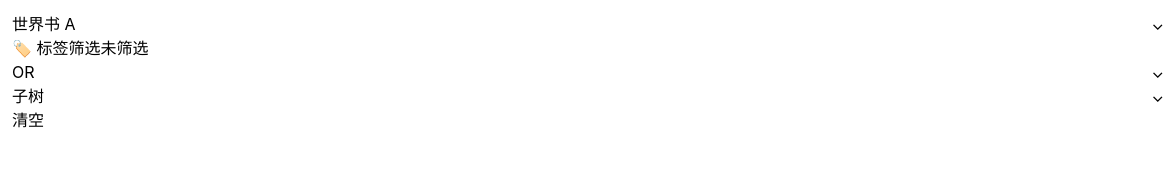
Test case: WorldbookPicker › uses the real searchable BaseSelect menu and preserves worldbook string values
Click the dropdown labelled "世界书 A ⌄" at [44, 24], box [12, 12, 1164, 36]
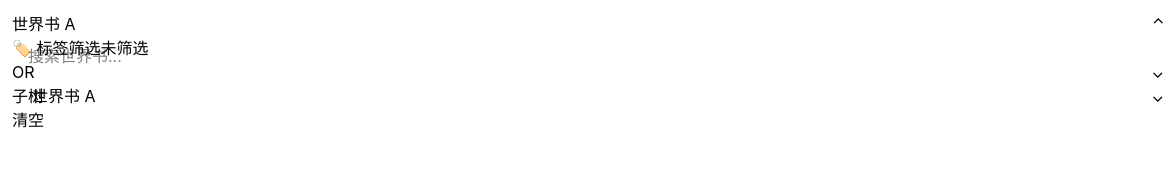
Type "目标" into the dropdown with placeholder "搜索世界书..." at [588, 56], box [28, 44, 1148, 68]
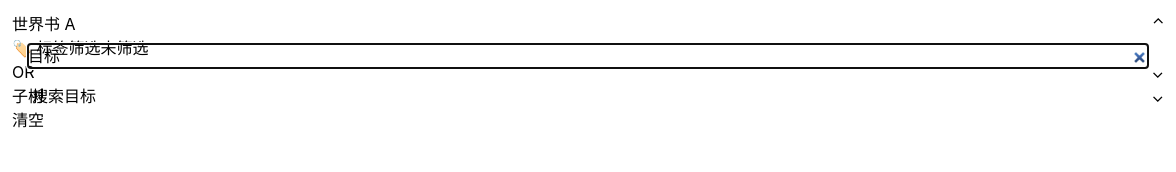
Click the option "搜索目标" at [64, 96], box [20, 76, 1156, 116]
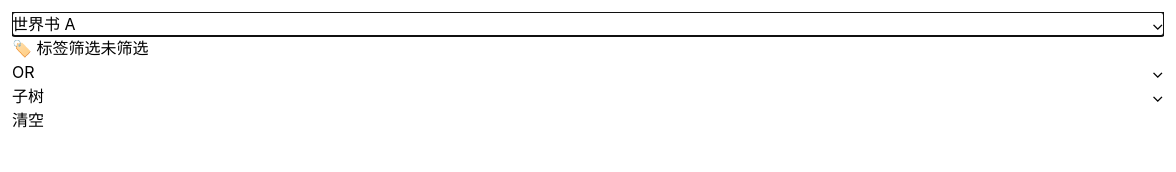
Expected: no elements with class "wb-control-select-menu" are shown
